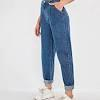pants: (39, 1, 74, 88)
